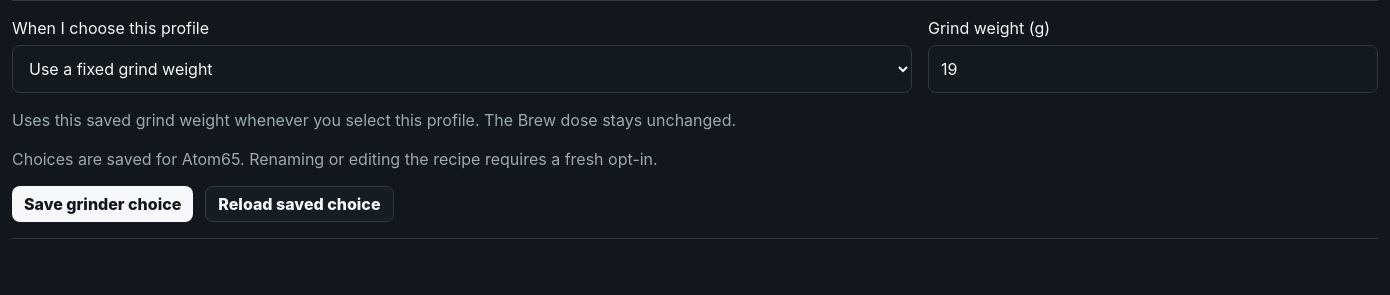
Test: Atom65 profile dose editor › does not claim a failed save succeeded and requires reloading the authoritative choice
The width and height of the screenshot is (1390, 295).
What coordinates should you click on to do the following:
click the button "Save grinder choice"
I would click on:
 (103, 204)
Its box is [12, 186, 193, 222].
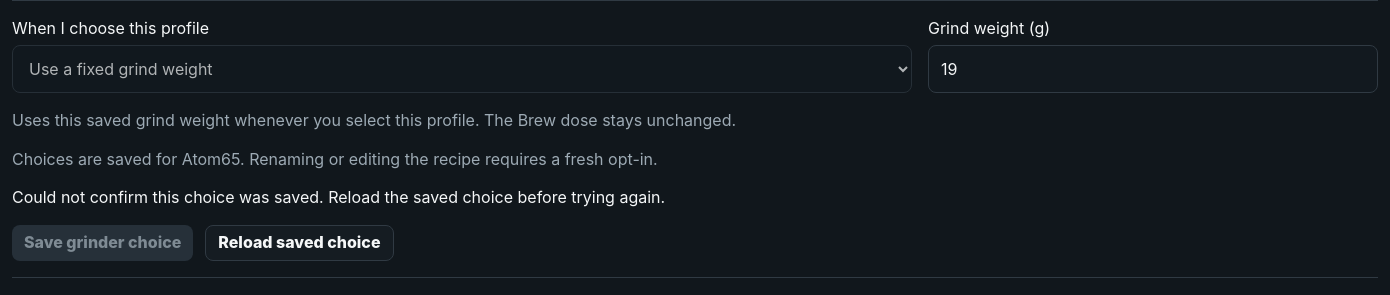
Expected: the message shows "Could not confirm", [12, 187, 665, 207]
Expected: the button "Save grinder choice" is disabled, [12, 225, 193, 261]
